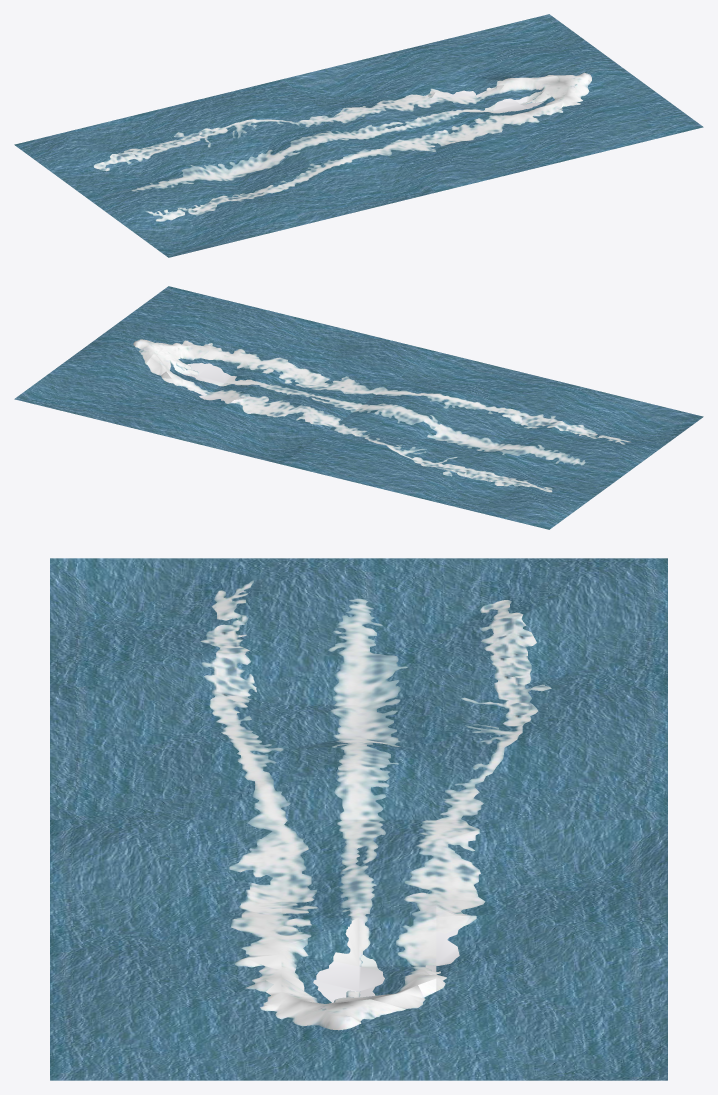
The model's file is bowwave02.glb.
The picture shows the model from 3 angles, top to bottom: view 1: azimuth 30°, elevation 25°; view 2: azimuth 150°, elevation 25°; view 3: azimuth 270°, elevation 25°; orthographic projection. The views are drawn at different scales.
Parts seen in each view (by area): view 1: Material2 (×3); view 2: Material2 (×3); view 3: Material2 (×3), Material3.
Part boxes in pixels (bbox=[...]): Material2 (×3): bbox=[14, 14, 703, 257]; Material2 (×3): bbox=[14, 286, 703, 529]; Material2 (×3): bbox=[50, 558, 667, 1080]; Material3: bbox=[249, 954, 446, 995].
Bounding box in the file's own units: 6830 × 258 × 3415.
8 materials, 2 textured.
